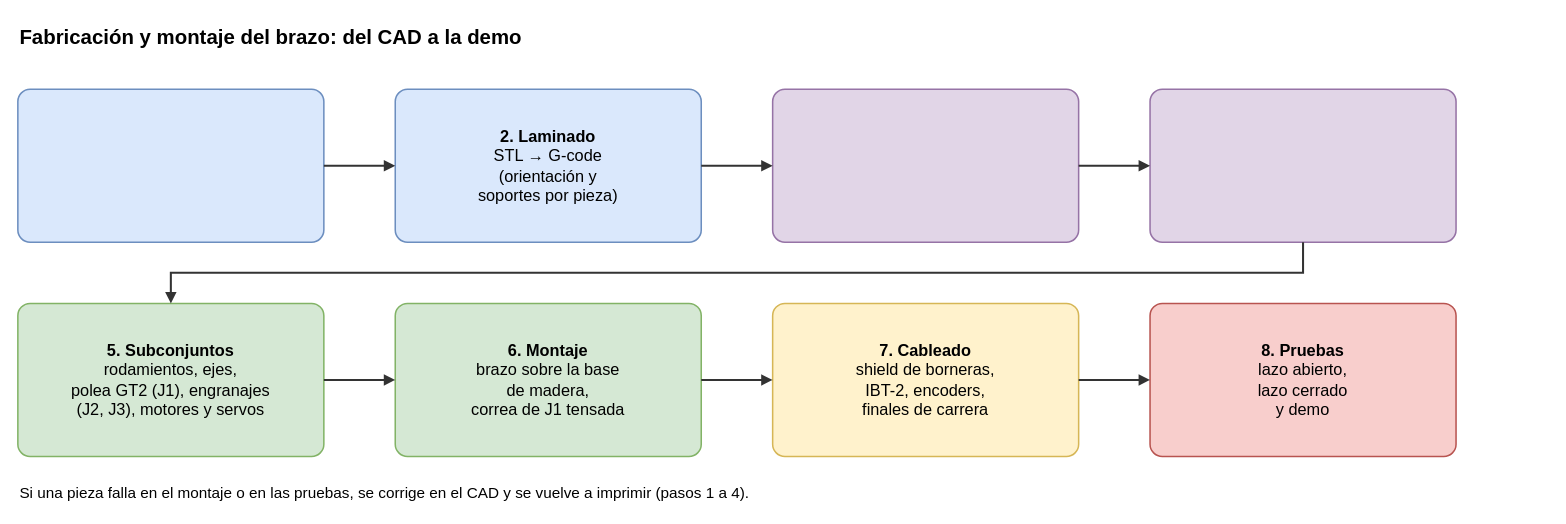
This 1566x524 diagram has some shape labels left out. Here are the shapes that lost their labels. From the top down, the box of each, then its label:
(17, 88, 324, 243): 1. CAD SolidWorks: eslabones, base, pinza y soportes
(771, 88, 1079, 243): 3. Impresión FDM PLA-CF negro 1,75 mm
(1149, 88, 1456, 243): 4. Post-proceso quitar soportes, lijar y repasar agujeros de ejes
